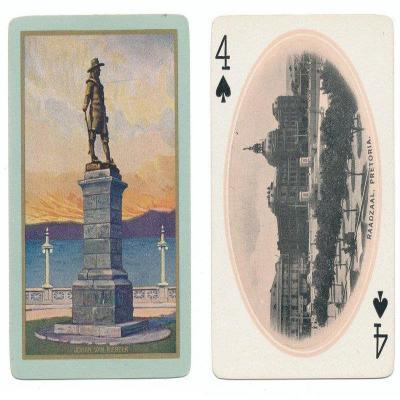graphics: (209, 13, 396, 380), (8, 14, 191, 381)
